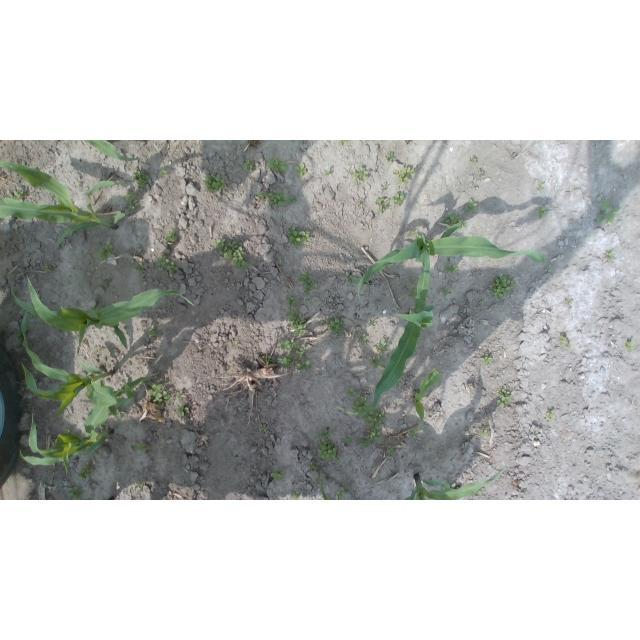Maize: (337, 235, 434, 417), (359, 224, 552, 299), (19, 373, 161, 474), (10, 276, 195, 351), (0, 159, 126, 250), (20, 308, 114, 420), (321, 465, 506, 500), (415, 368, 441, 431), (80, 140, 136, 162)
Weeds: (359, 409, 387, 448), (215, 238, 248, 269), (315, 429, 344, 464), (284, 295, 306, 337), (488, 274, 516, 299), (148, 383, 172, 407), (596, 200, 621, 223), (285, 226, 311, 248), (441, 212, 468, 232), (157, 255, 180, 278), (324, 315, 346, 337), (203, 173, 225, 194), (295, 345, 312, 372), (299, 271, 318, 293), (268, 188, 288, 208), (392, 167, 414, 185), (131, 168, 149, 188), (97, 241, 115, 261), (352, 394, 368, 416), (124, 191, 140, 212), (268, 156, 289, 172), (78, 462, 95, 480), (352, 167, 369, 185), (496, 388, 511, 406), (375, 197, 390, 215), (67, 486, 86, 500), (277, 354, 294, 369), (464, 198, 479, 215), (279, 338, 299, 350), (375, 341, 390, 356), (271, 467, 286, 481), (368, 356, 384, 369), (293, 163, 307, 177), (165, 230, 179, 244), (175, 402, 189, 416), (345, 272, 360, 284), (242, 160, 255, 173), (391, 194, 404, 207), (13, 190, 27, 202), (479, 353, 493, 365), (444, 264, 459, 275), (535, 206, 548, 218), (409, 426, 420, 438), (335, 488, 345, 501), (560, 335, 570, 348), (147, 325, 158, 336), (136, 443, 149, 452), (605, 250, 615, 261), (256, 190, 266, 200), (134, 262, 144, 272), (290, 490, 300, 500), (346, 387, 356, 397), (385, 152, 395, 162), (261, 356, 272, 365), (388, 444, 396, 456), (627, 339, 635, 351), (444, 483, 457, 490), (288, 196, 297, 206), (441, 286, 451, 295), (408, 287, 417, 297), (546, 409, 555, 419), (102, 279, 111, 289), (44, 264, 53, 273), (159, 168, 167, 177), (176, 391, 184, 400), (314, 475, 323, 483), (358, 333, 367, 341), (537, 181, 545, 190), (17, 330, 23, 342), (134, 481, 144, 488), (344, 436, 352, 444), (369, 318, 377, 326), (325, 168, 332, 177), (259, 424, 266, 433), (310, 462, 317, 470), (480, 429, 488, 436), (381, 183, 388, 191), (339, 140, 349, 145), (471, 157, 478, 164), (306, 296, 313, 302), (407, 231, 414, 237), (409, 279, 416, 285), (478, 301, 485, 307), (63, 429, 71, 434), (480, 171, 485, 176), (568, 300, 573, 305), (358, 199, 364, 203), (477, 490, 483, 494), (184, 482, 188, 488), (534, 431, 538, 434)
